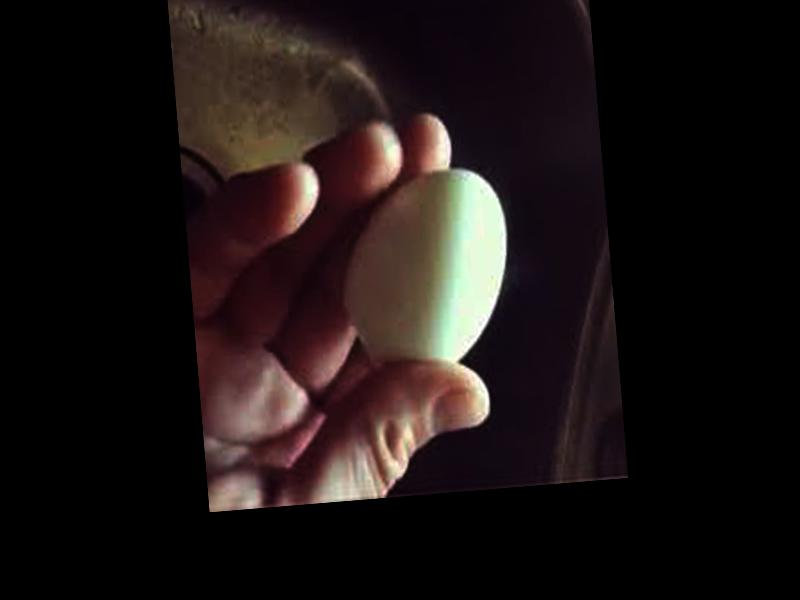Eggs: (339, 168, 517, 374)
